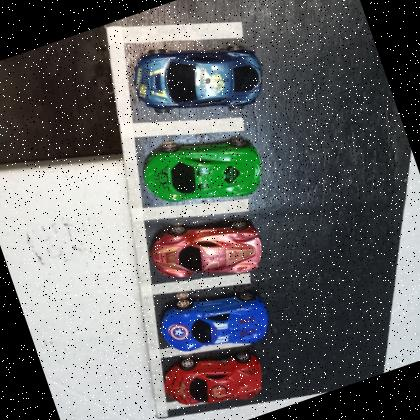Car: (121, 16, 275, 140), (133, 115, 273, 226), (142, 199, 271, 302), (153, 273, 280, 372), (157, 336, 272, 420)
